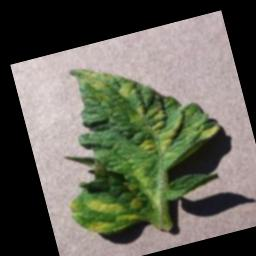Leaf_Mold: (34, 35, 241, 243)
